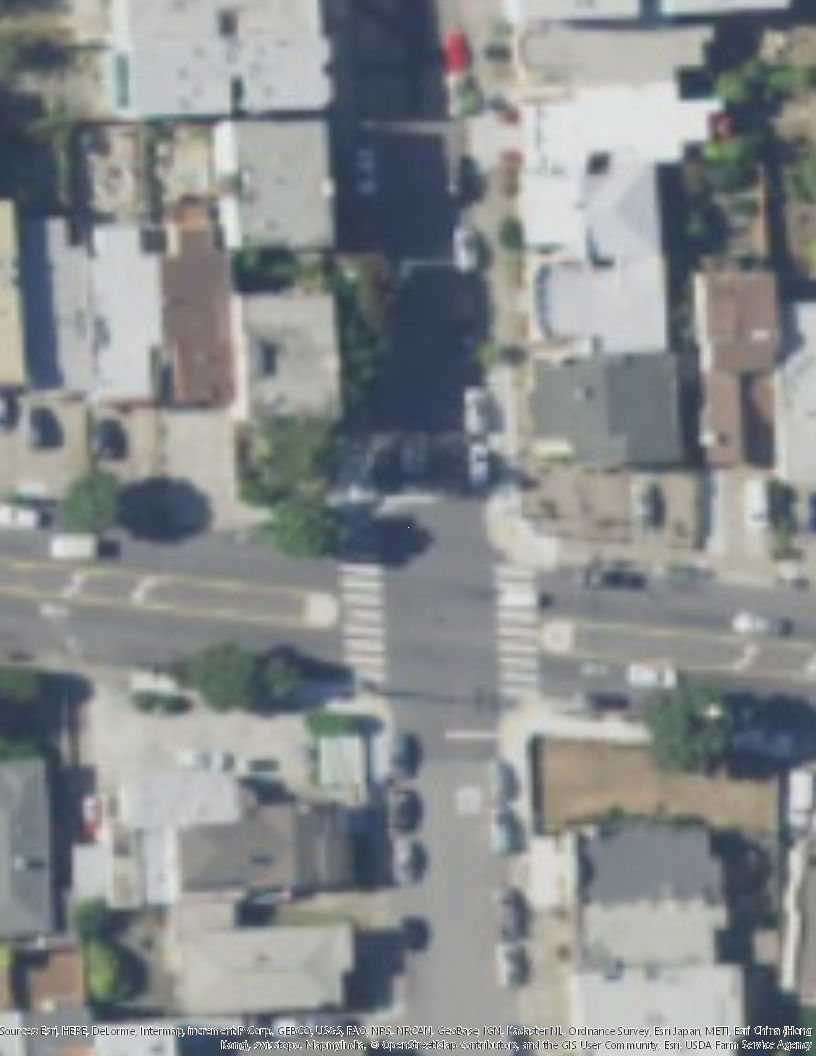zebracross: (489, 563, 540, 696), (339, 556, 389, 689)
